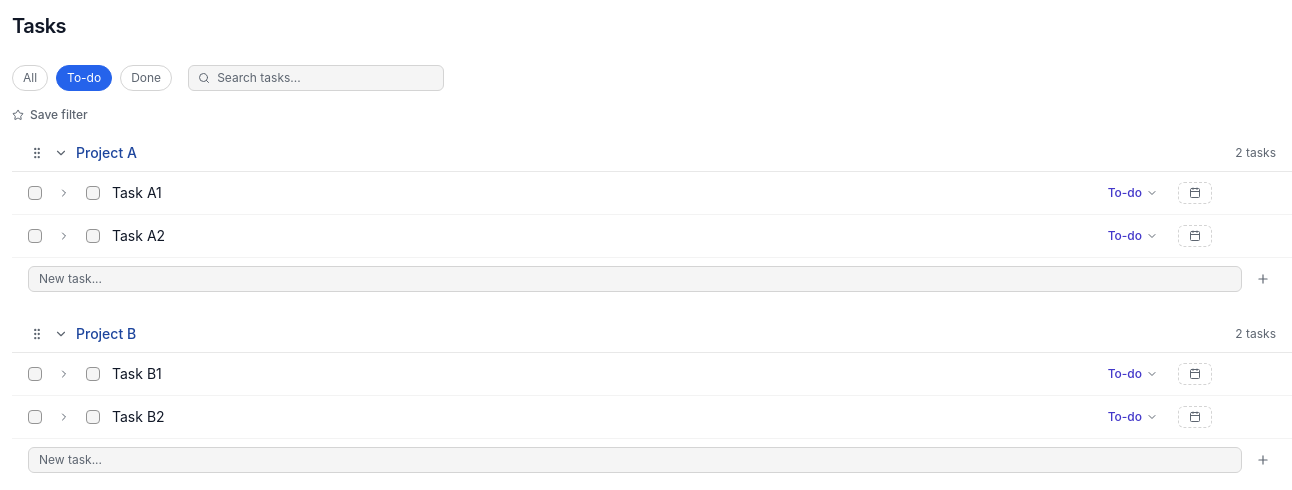
Test: TasksPage arrow-key navigation › cycles focus over the expanded project's tasks only, skipping the collapsed project, and Enter opens the focused task
This screenshot has width=1292, height=490.
Expected: the text "Task A1" is shown, 112,184 -> 162,201
Click the button "Project B 2 tasks".
click(1256, 334)  # box 54,324 -> 1276,344
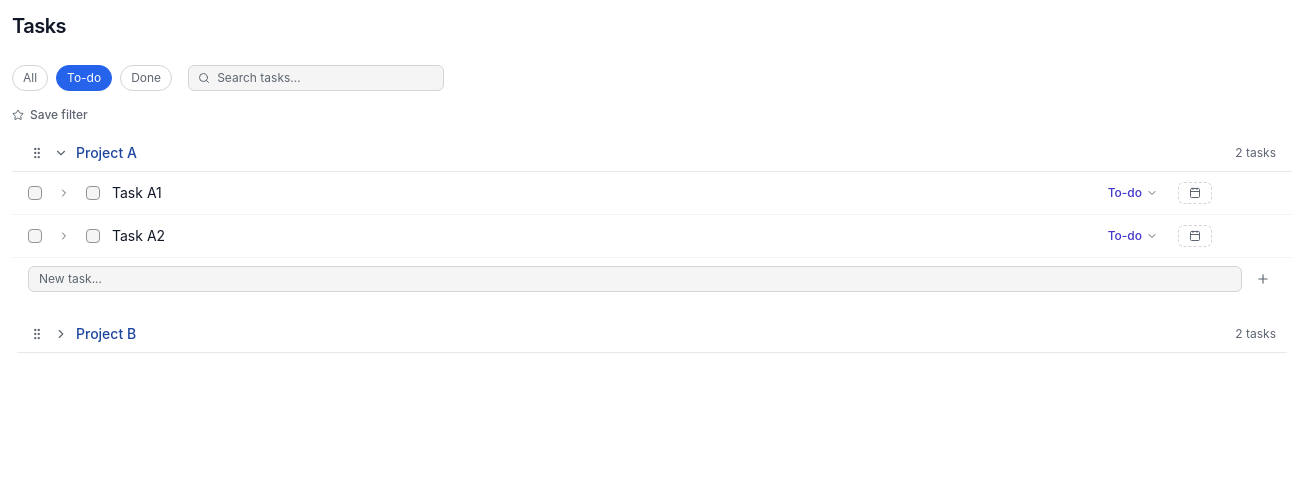
Result: the text "Task B1" is gone
Press ArrowDown
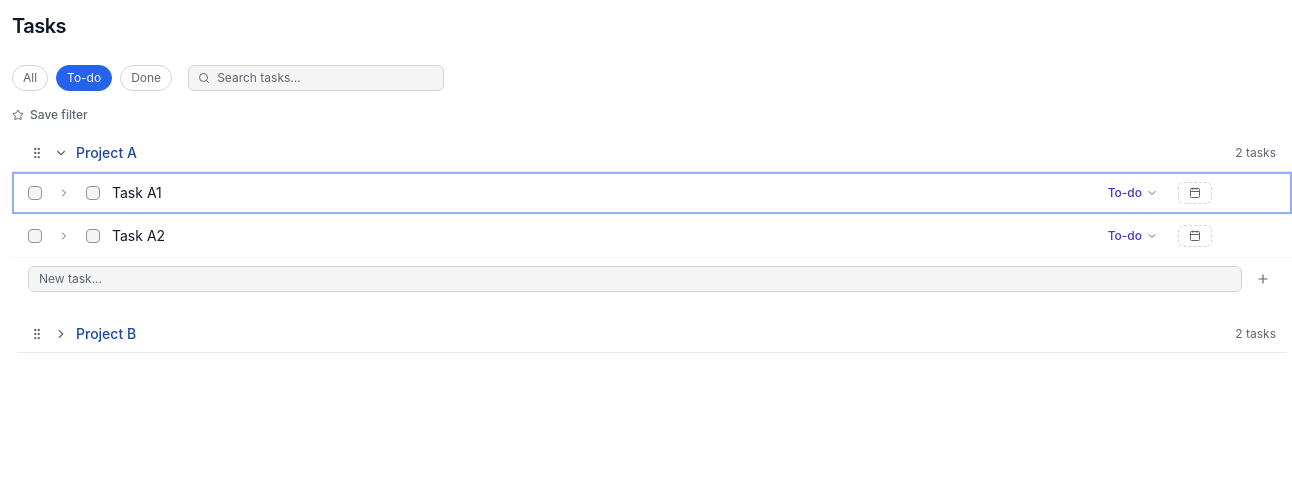
Press ArrowDown
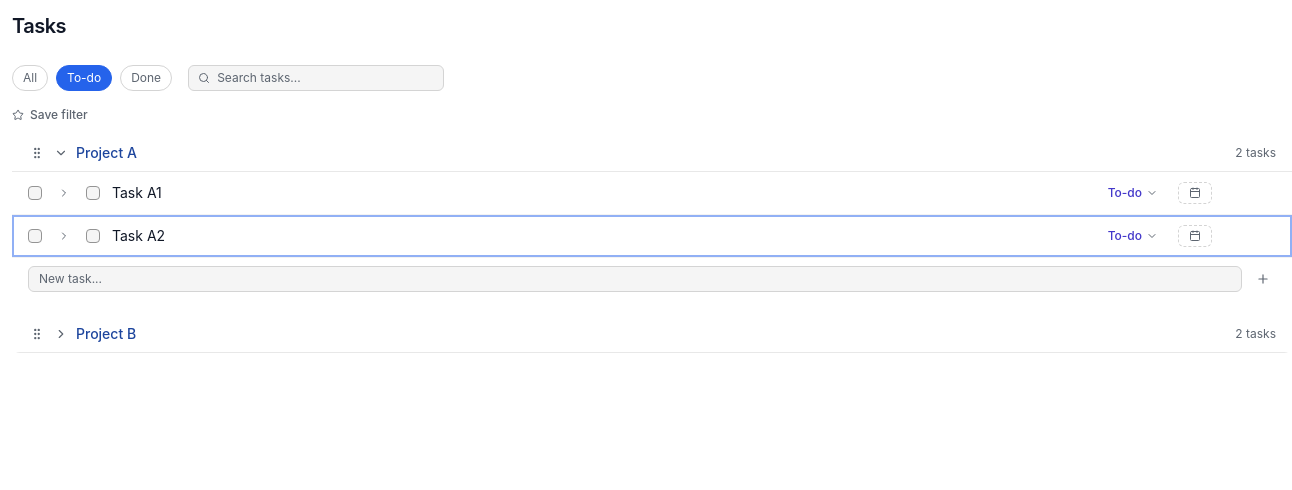
Press ArrowDown
Press ArrowDown
Expected: the field with placeholder "New subtask..." is not shown
Press Enter
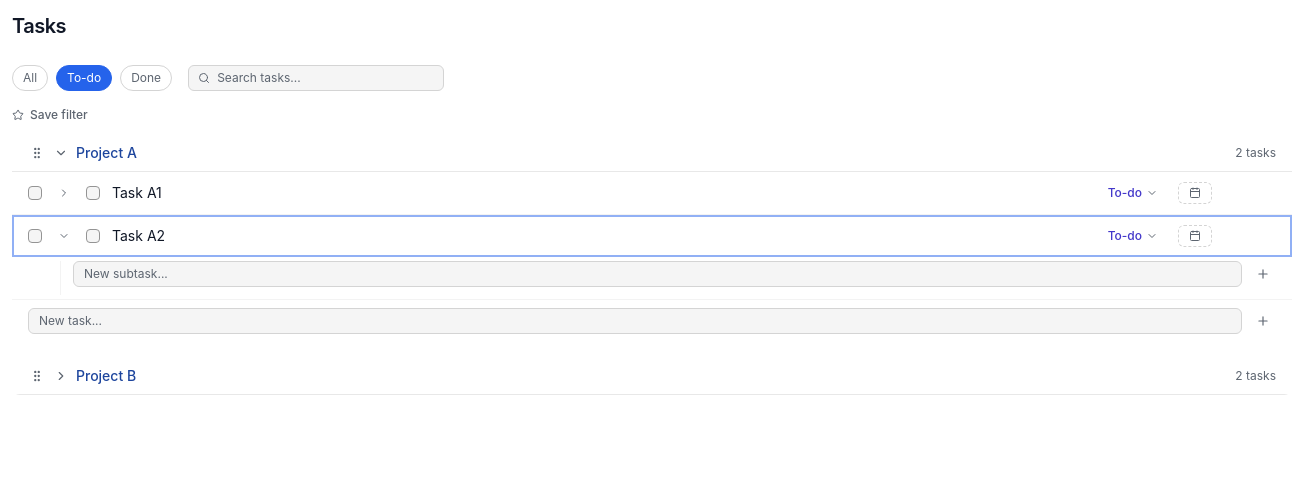
Result: the field with placeholder "New subtask..." is shown at 73,261 -> 1242,287
